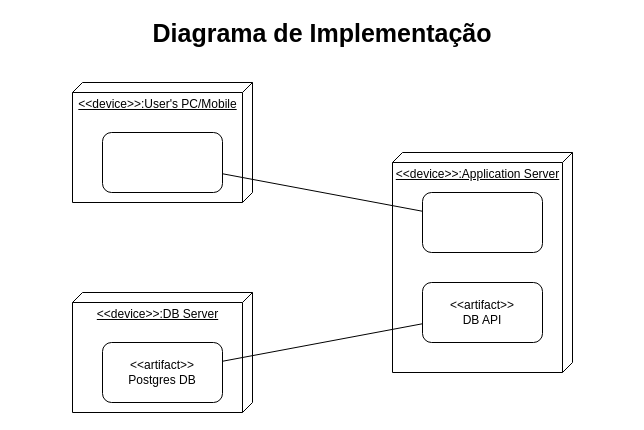
The diagram is 644 pixels wide and 430 high, and some of its shapes have lost their labels. Here are the shapes that lost their labels. From the top down, the centre of each, then its label:
the point at 162,162: <<artifact>> Web Browser
the point at 482,222: <<artifact>> Web Application
